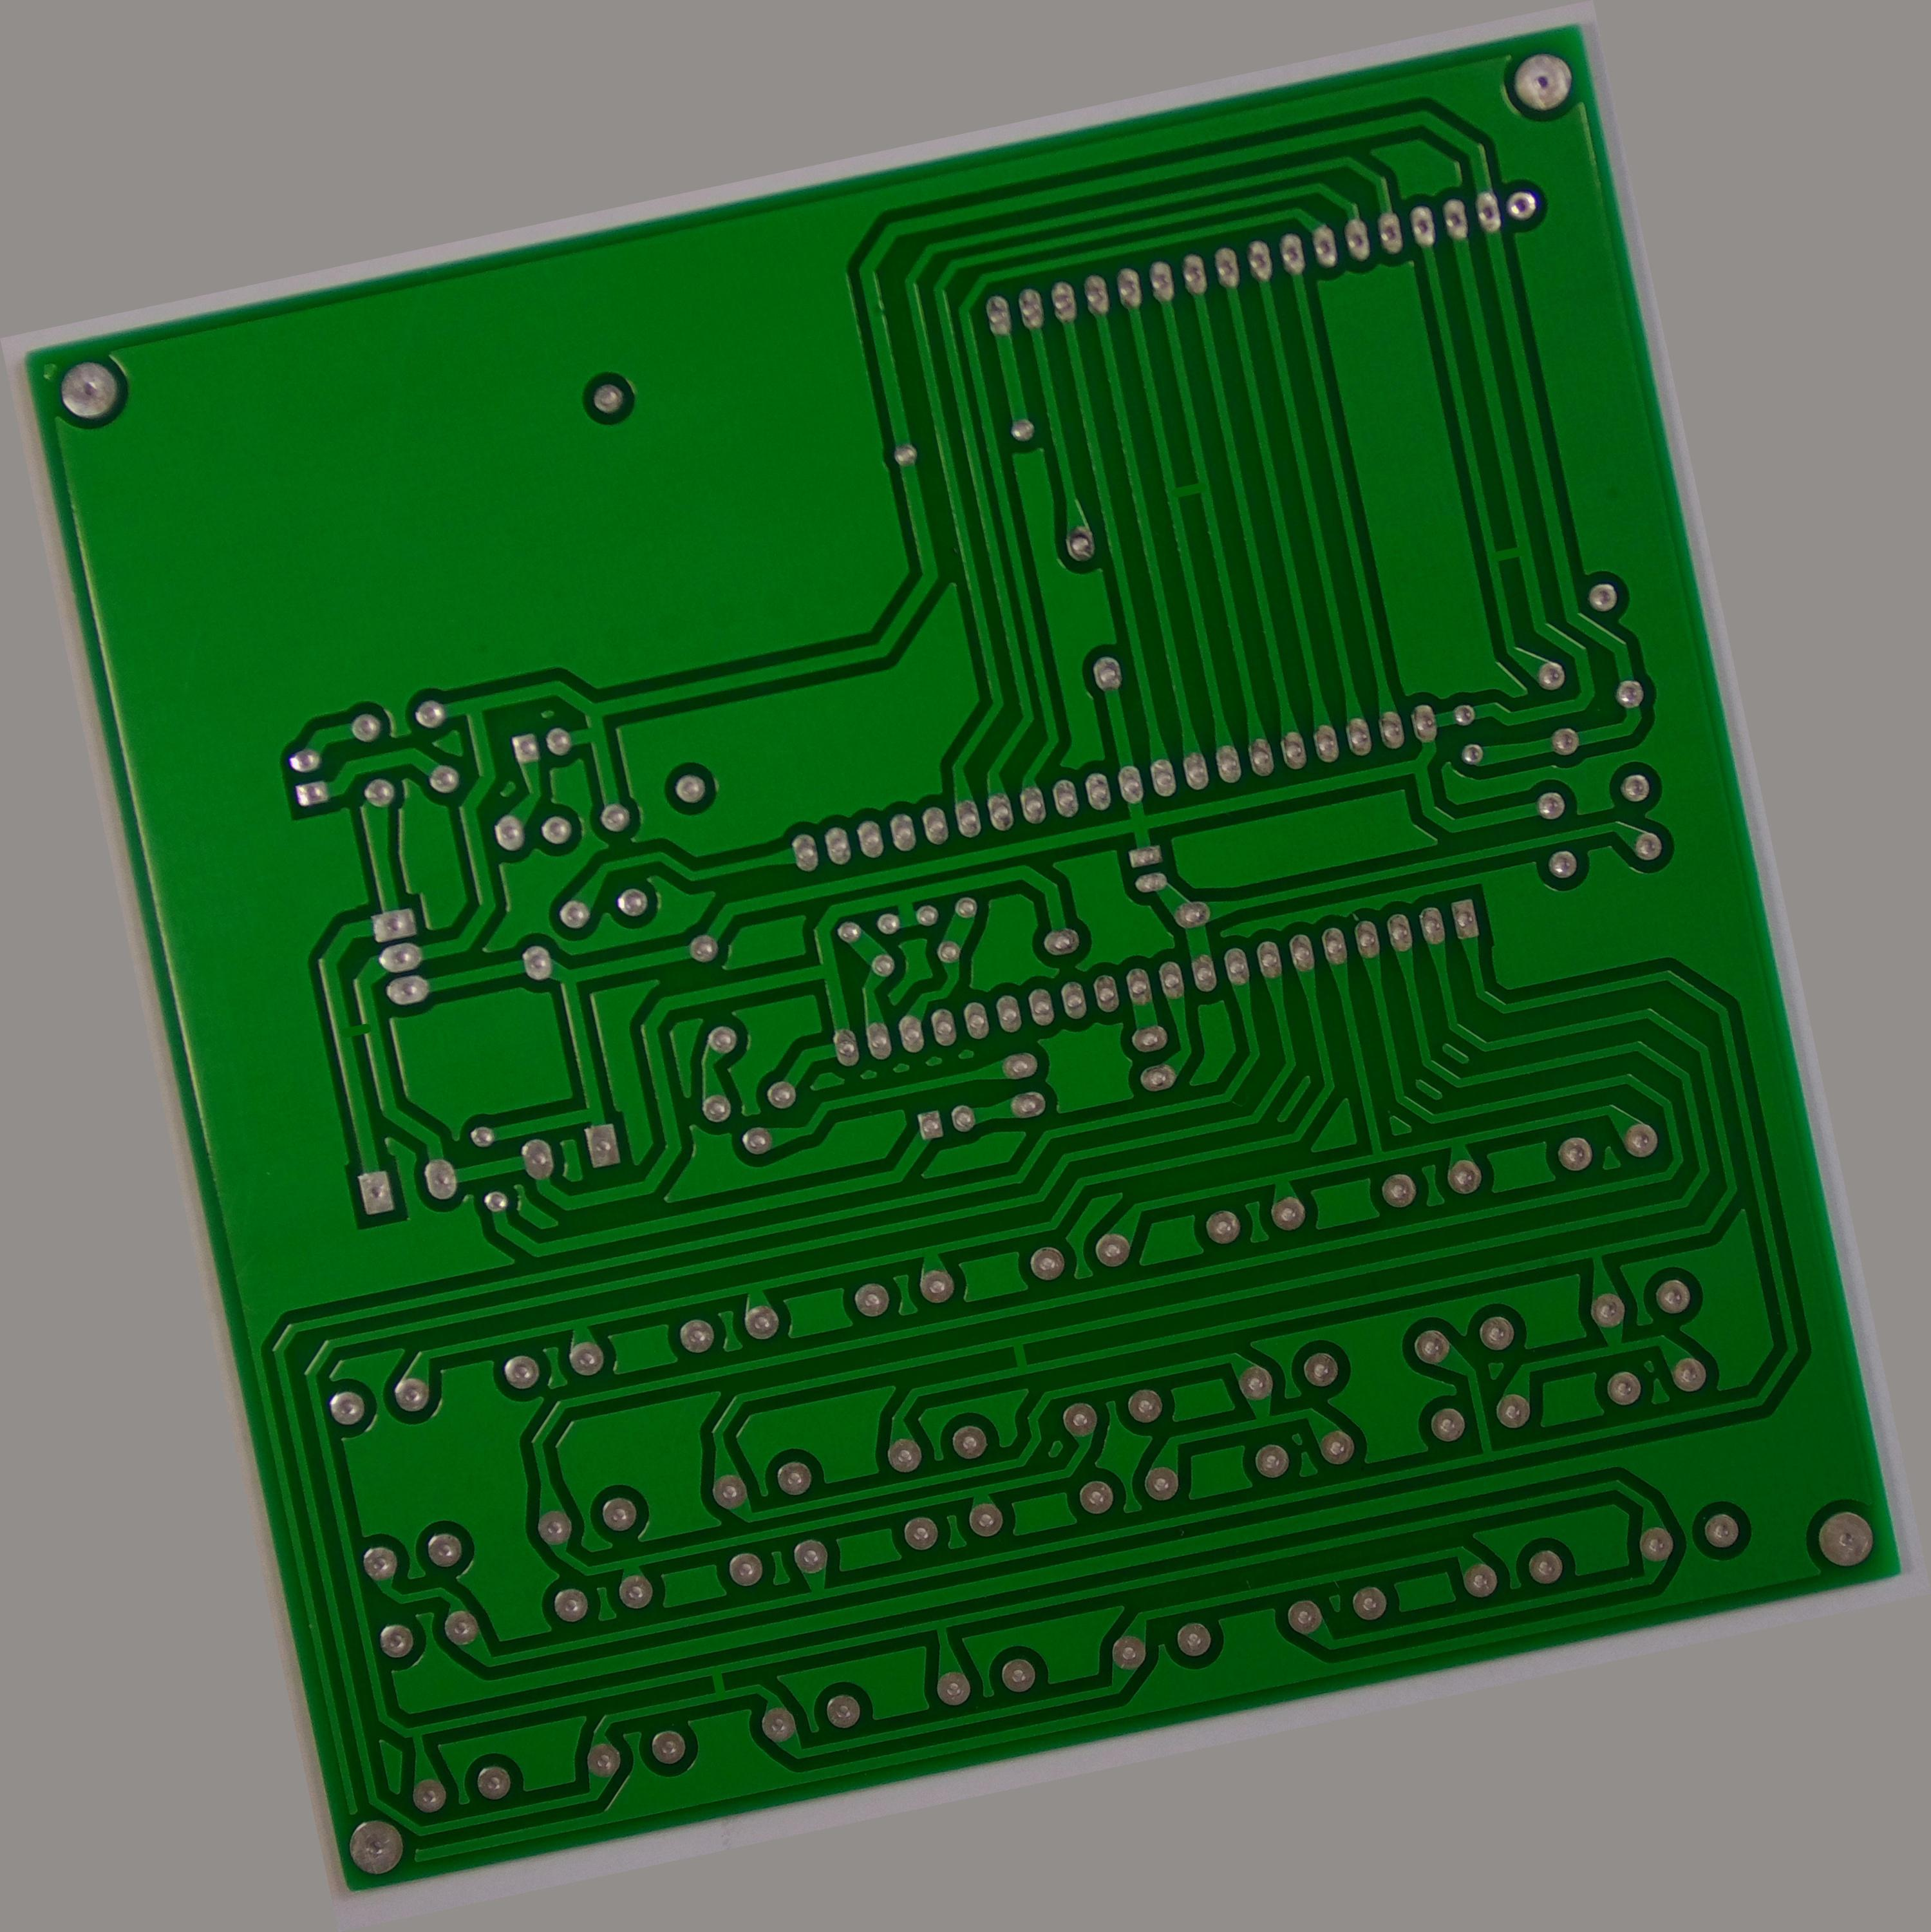short: (318, 1003, 393, 1065), (686, 1654, 746, 1713), (1473, 529, 1540, 580), (1156, 465, 1217, 513), (999, 1325, 1045, 1384)
